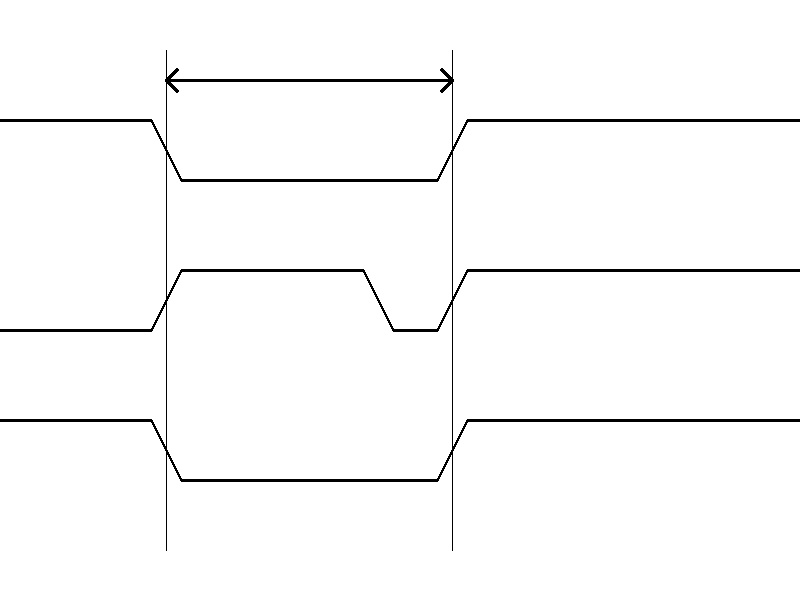double_arrow: (166, 65, 452, 95)
